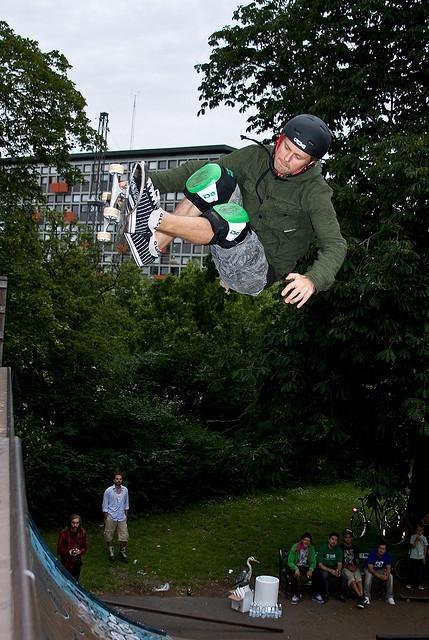bicycle: (348, 498, 410, 547)
